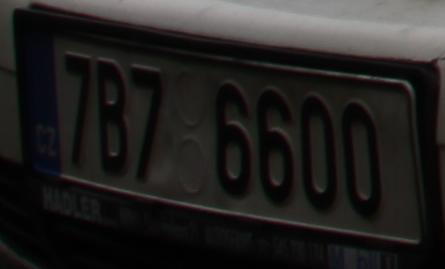0: (344, 100, 383, 220), (300, 94, 337, 211)
6: (214, 80, 252, 201), (259, 87, 297, 206)
7: (133, 63, 162, 182), (64, 51, 91, 162)
B: (98, 58, 128, 175)
